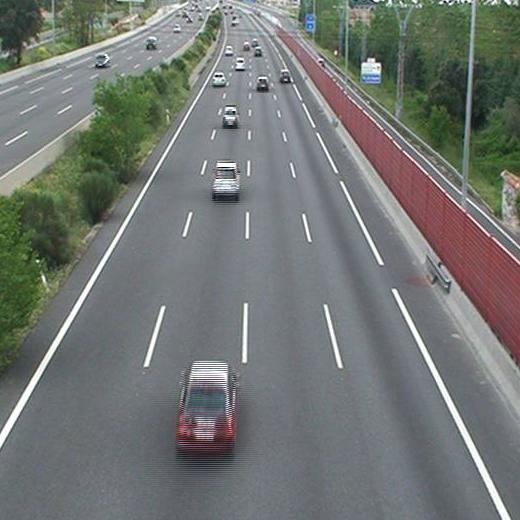car: (174, 361, 235, 448), (213, 163, 239, 195), (222, 107, 239, 127), (211, 73, 226, 87), (256, 77, 268, 90), (279, 70, 290, 82), (234, 58, 245, 70), (224, 46, 232, 54), (242, 42, 250, 50), (251, 39, 258, 48), (254, 48, 261, 56)
